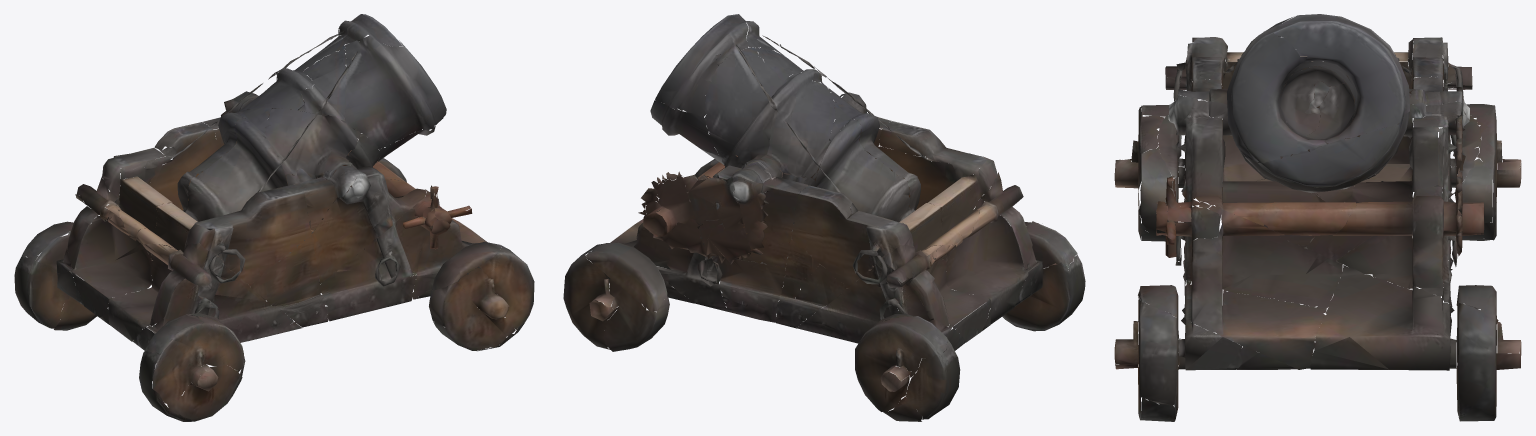
The model's file is canon.glb.
The picture shows the model from 3 angles, left to right: view 1: azimuth 30°, elevation 25°; view 2: azimuth 150°, elevation 25°; view 3: azimuth 270°, elevation 25°; orthographic projection. The views are drawn at different scales.
Parts seen in each view (by area): view 1: tripo_node_070e1d79-da6f-445a-97ac-bf99cd724348; view 2: tripo_node_070e1d79-da6f-445a-97ac-bf99cd724348; view 3: tripo_node_070e1d79-da6f-445a-97ac-bf99cd724348.
Part boxes in pixels (x1=…): tripo_node_070e1d79-da6f-445a-97ac-bf99cd724348: x1=14, y1=14, x2=534, y2=421; tripo_node_070e1d79-da6f-445a-97ac-bf99cd724348: x1=563, y1=14, x2=1085, y2=421; tripo_node_070e1d79-da6f-445a-97ac-bf99cd724348: x1=1114, y1=14, x2=1521, y2=421.
Bounding box in the file's own units: 1 × 0.7194 × 0.7221.
1 material, 1 textured.
